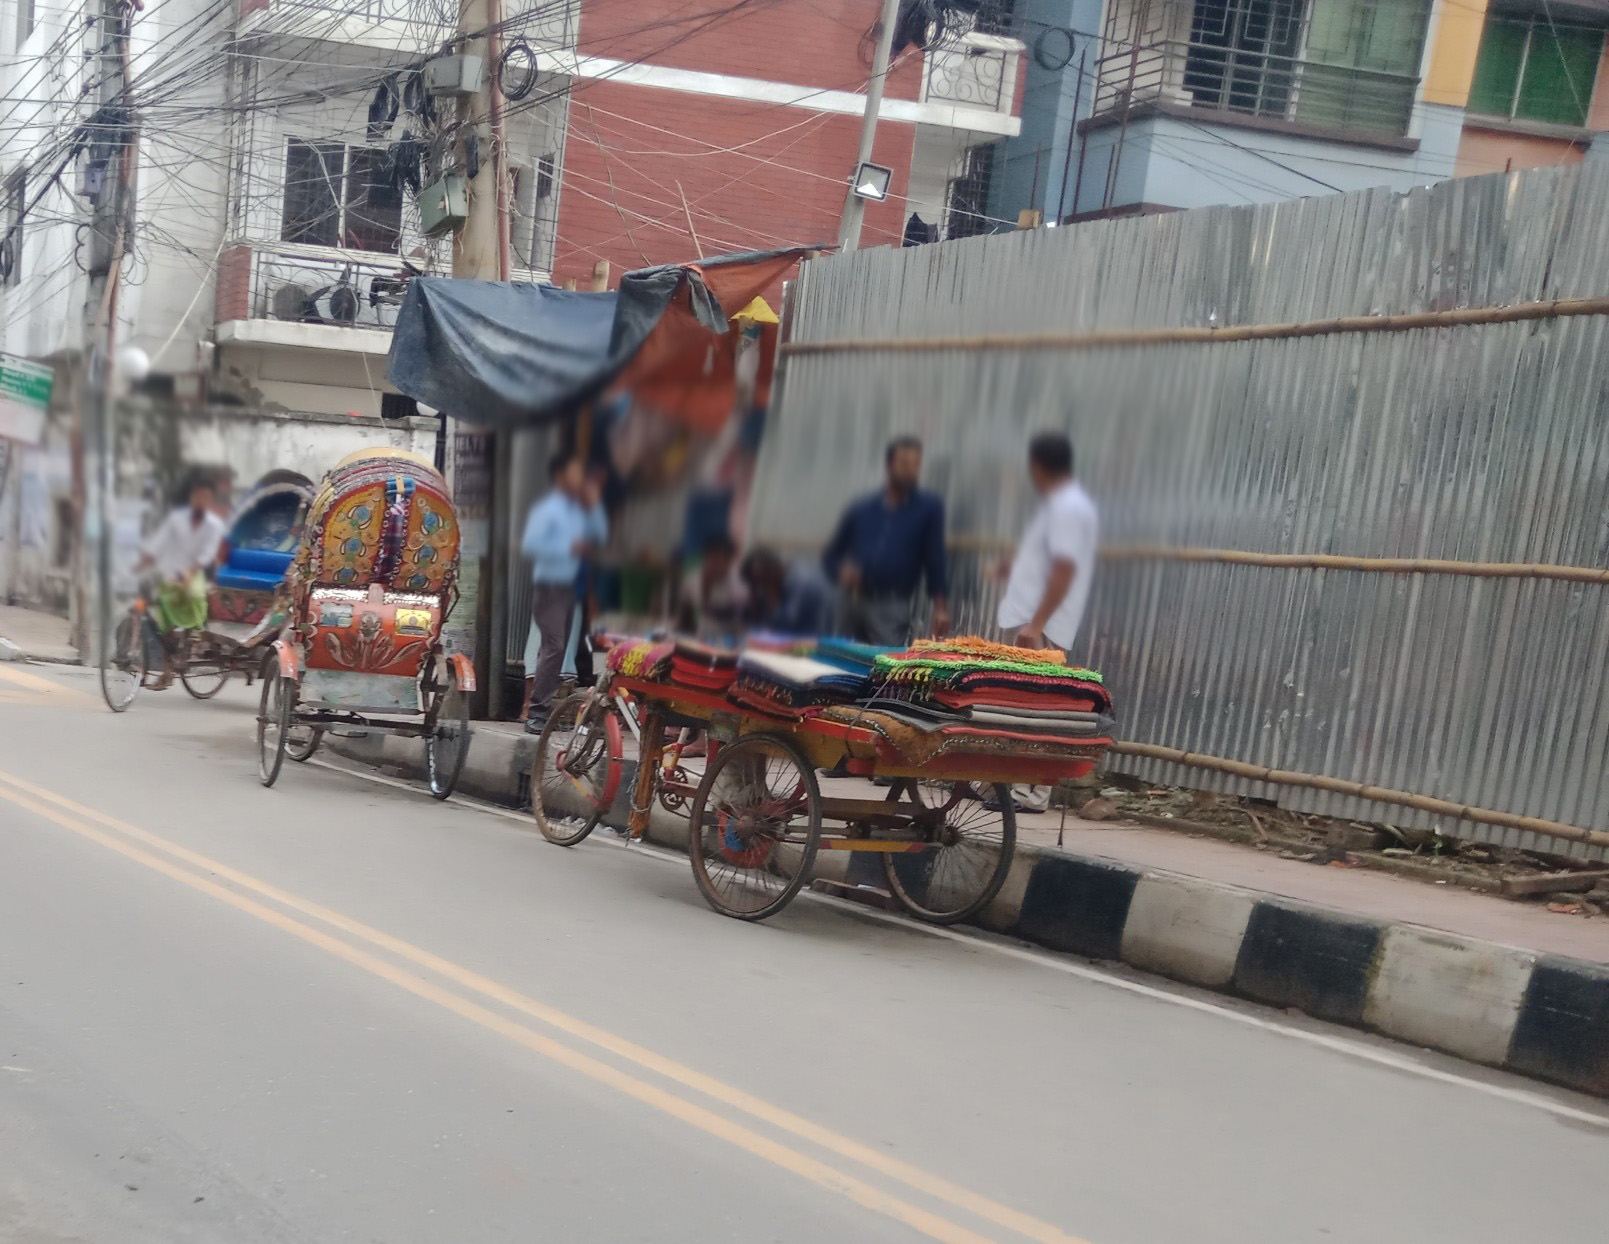rickshaw: (242, 450, 477, 815), (91, 463, 323, 700)
van: (515, 610, 1119, 931)
